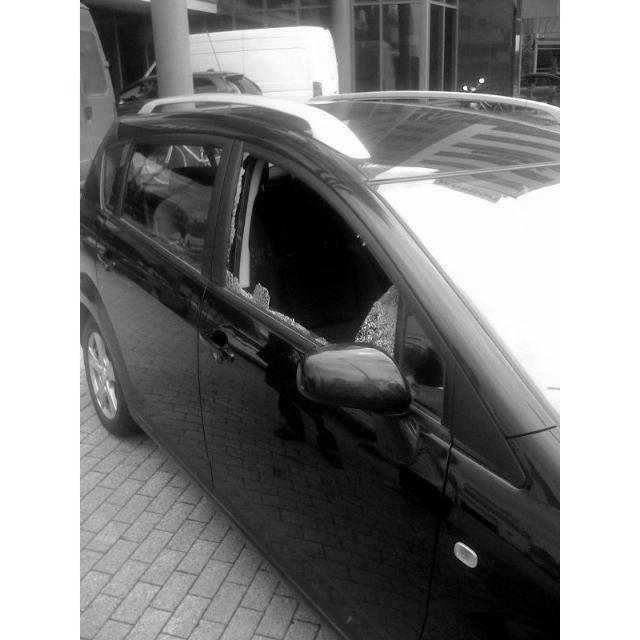doorouter-dent: (223, 165, 411, 528)
